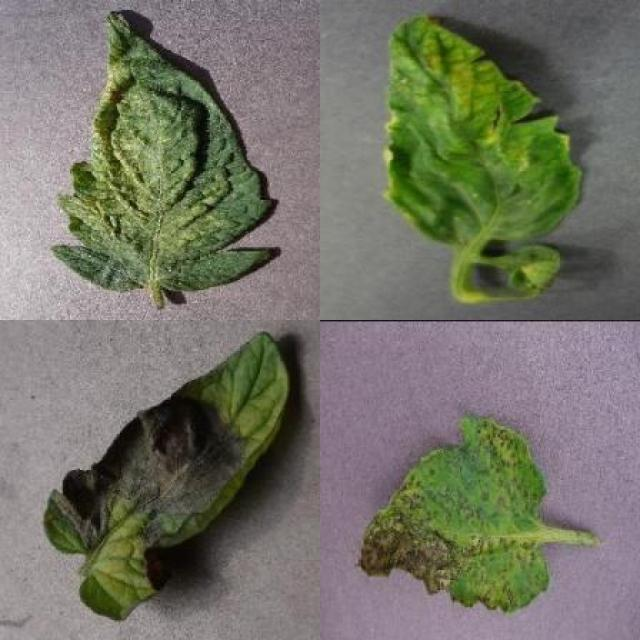Late Blight: (43, 328, 290, 625)
Septoria: (356, 415, 551, 608)
Spider Mites: (49, 13, 271, 293)
Yellow Leaf Curl Virus: (382, 15, 584, 245)
